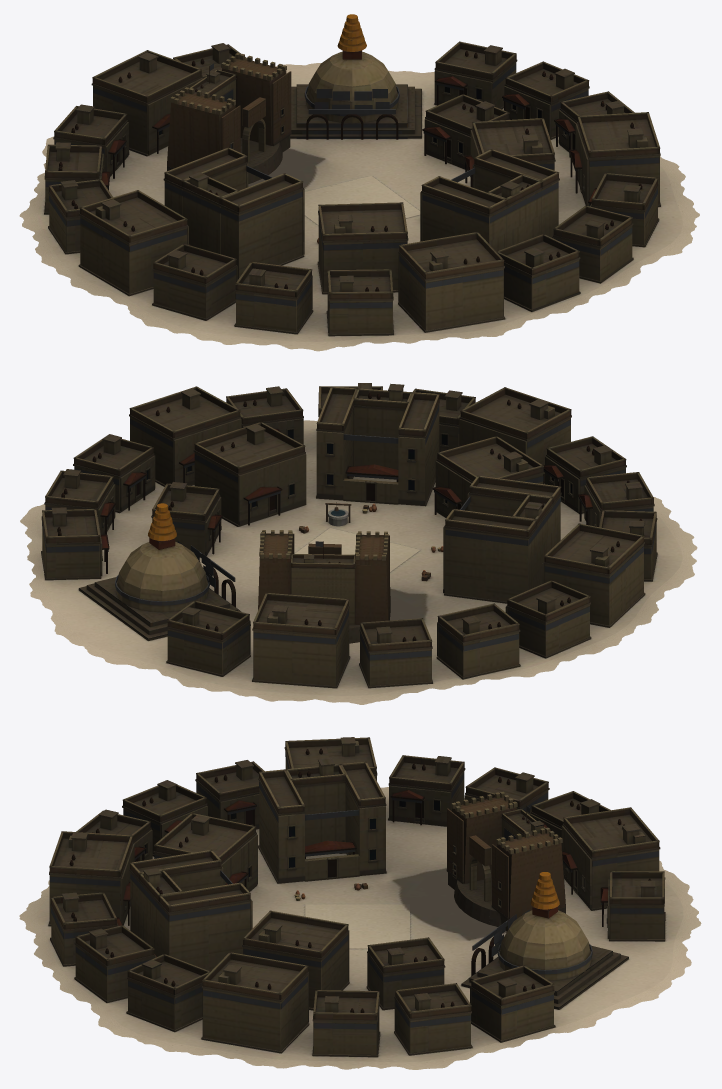
Rendered from classical-town-big-a-steppe-92205fe9.glb.
The picture shows the model from 3 angles, top to bottom: view 1: azimuth 30°, elevation 25°; view 2: azimuth 150°, elevation 25°; view 3: azimuth 270°, elevation 25°; orthographic projection.
Parts seen in each view (by area): view 1: LOD0; view 2: LOD0; view 3: LOD0.
Part boxes in pixels (<box>): LOD0: <box>19,14,699,351</box>; LOD0: <box>20,383,697,704</box>; LOD0: <box>19,737,701,1069</box>.
Size of what is drawn, in the model's own units: 7.91 by 1.27 by 7.95.
3 materials, 3 textured.
